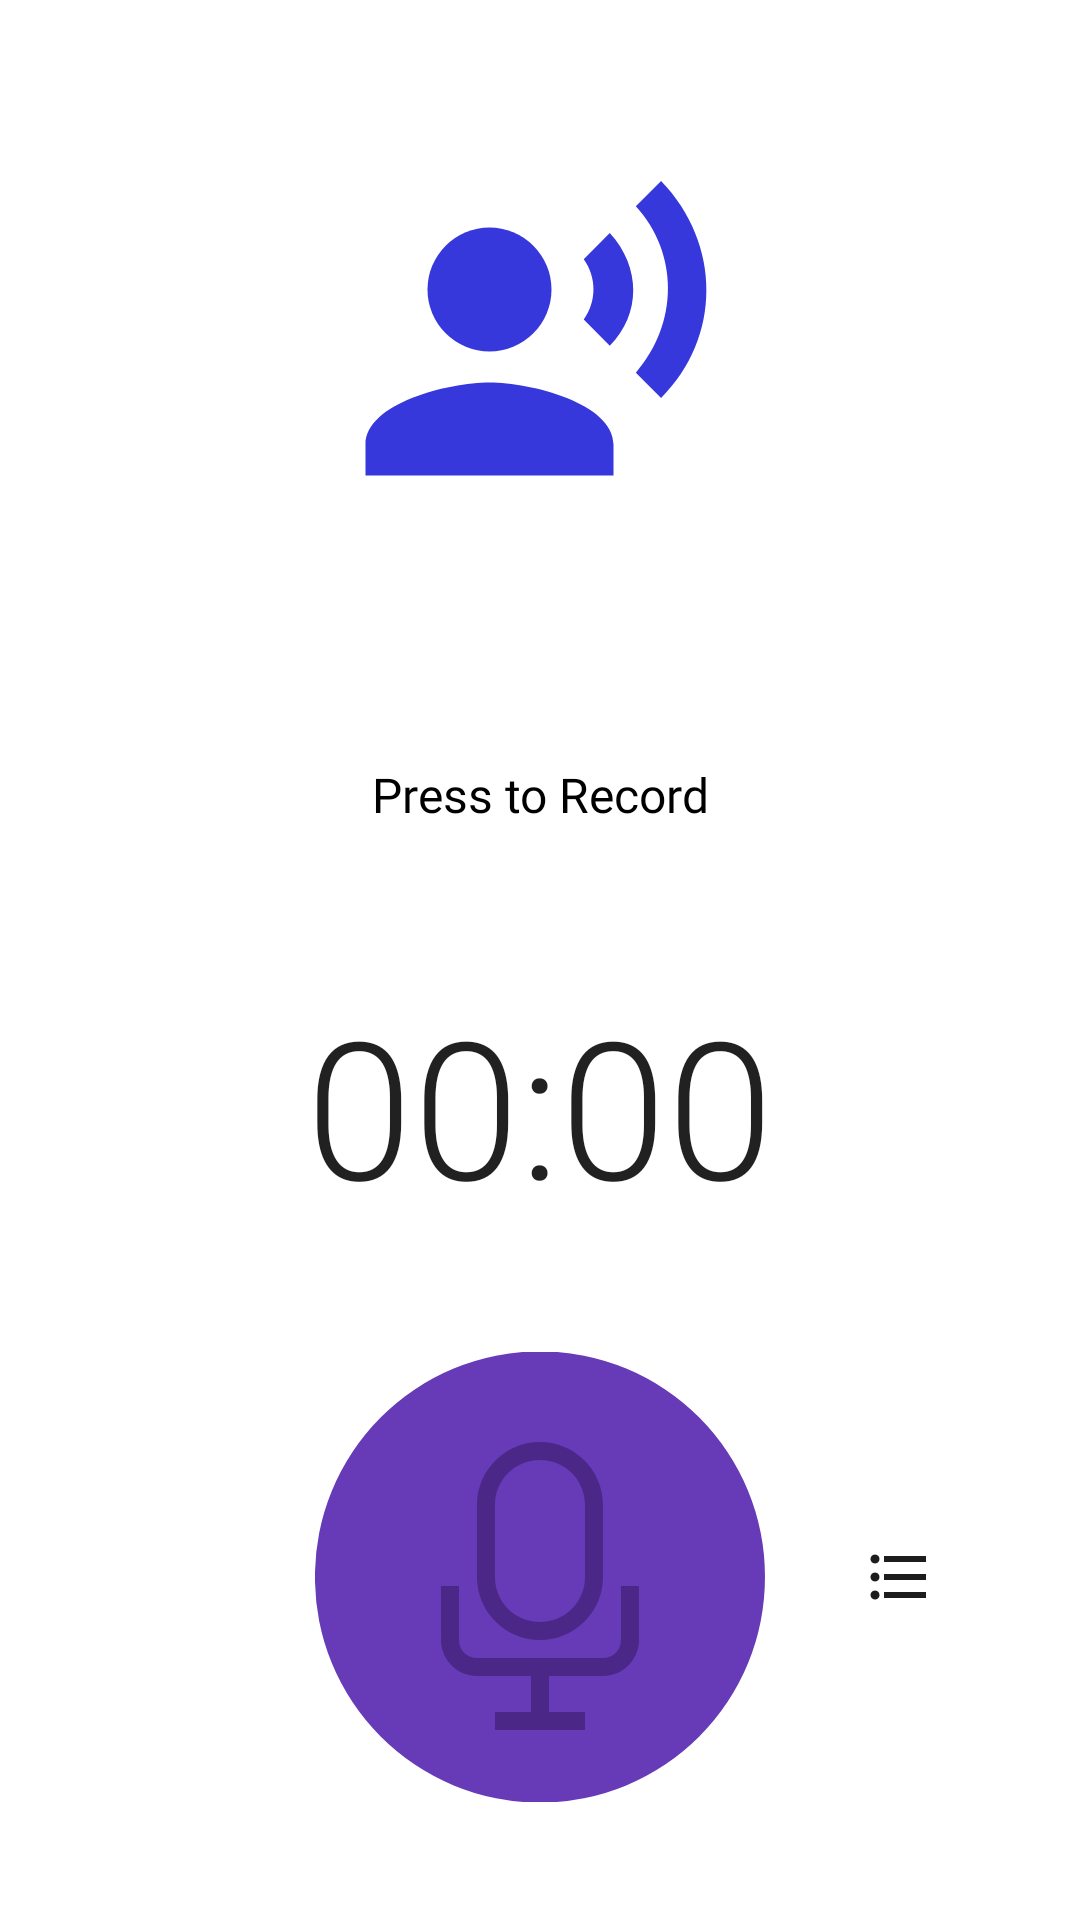

Icons on this 1080px×1920px Android screen, each with the point to tap as (x,y):
format list bulleted: (898,1577)
record voice over: (536,328)
